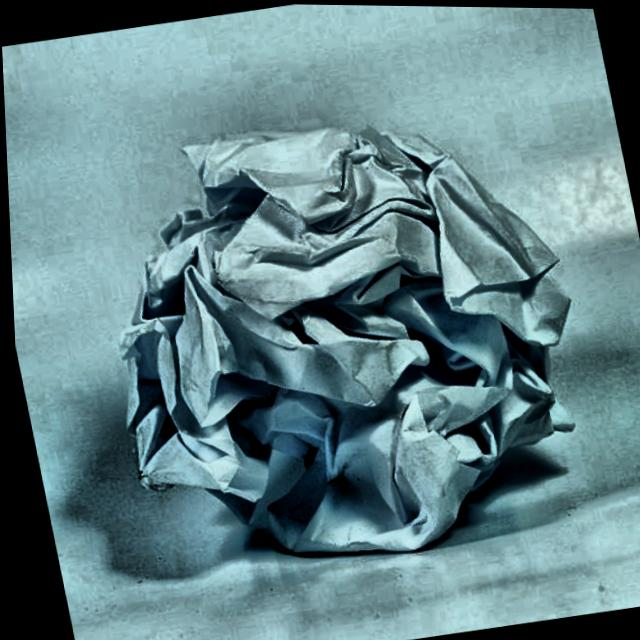Paper: (47, 73, 625, 613)
